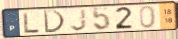0: (139, 5, 158, 30)
2: (114, 5, 136, 31)
5: (90, 6, 113, 32)
D: (42, 9, 67, 34)
J: (69, 8, 89, 32)
L: (22, 11, 41, 35)
